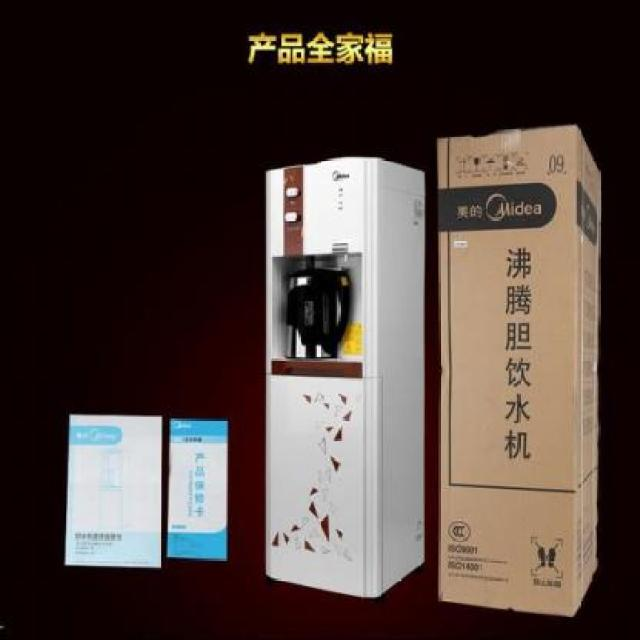cooler: (258, 155, 428, 600)
